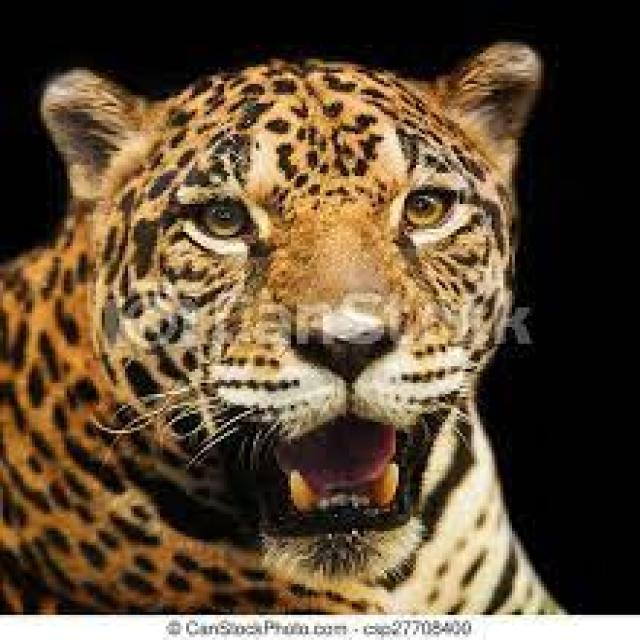Jaguar: (6, 48, 558, 609)
